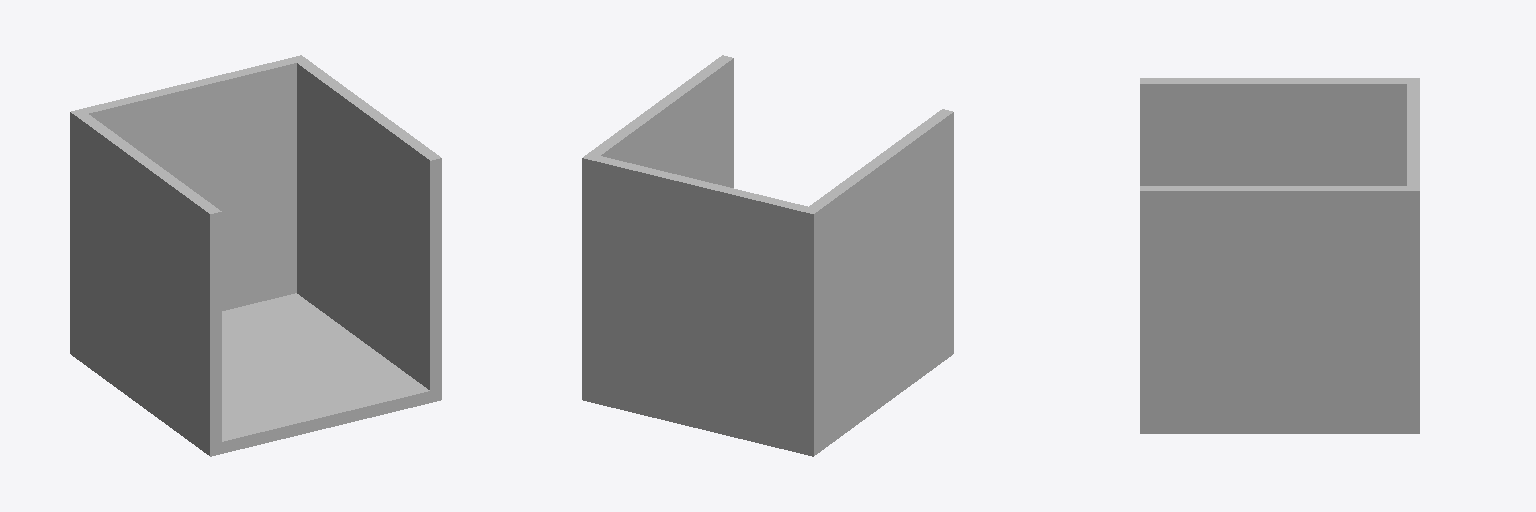
3 views of the same model, side by side, from view 1: azimuth 30°, elevation 25°; view 2: azimuth 150°, elevation 25°; view 3: azimuth 270°, elevation 25° (orthographic).
Parts seen in each view (by area): view 1: tiled_room; view 2: tiled_room; view 3: tiled_room.
Boxes of the visible parts, x1,y1,x2,y2 form: tiled_room: [70, 55, 441, 456]; tiled_room: [582, 55, 953, 456]; tiled_room: [1140, 78, 1419, 433].
Size of the model in its own units: 2 by 2 by 2.1.